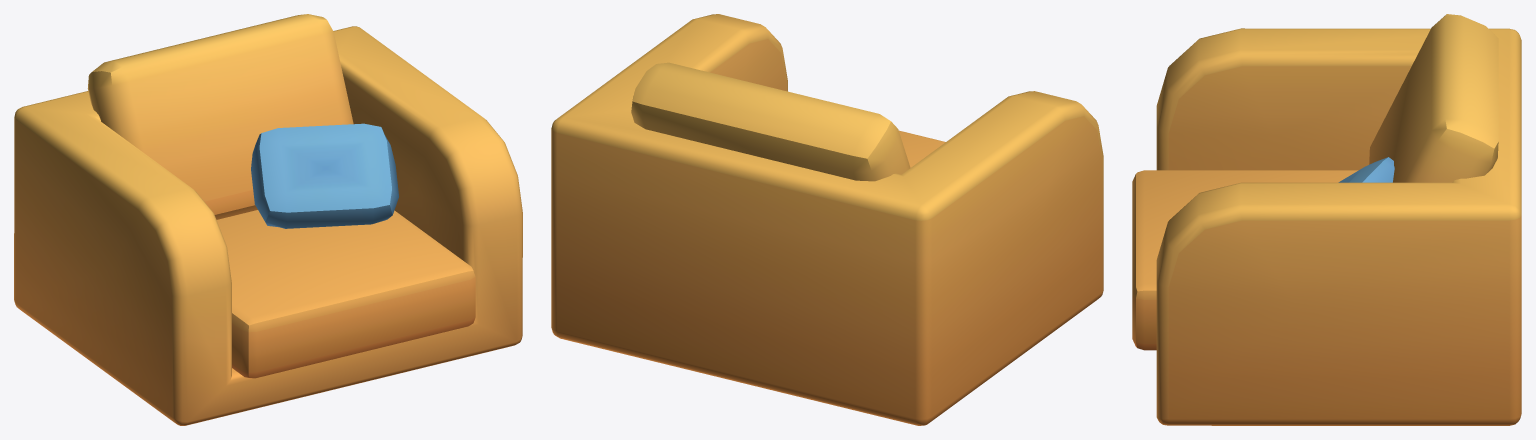
The model's file is kay-poltrona-almofadas.gltf.
3 renders of one model, left to right at view 1: azimuth 30°, elevation 25°; view 2: azimuth 150°, elevation 25°; view 3: azimuth 270°, elevation 25°, orthographic. The views are drawn at different scales.
Visible parts, largest first — view 1: armchair_pillows; view 2: armchair_pillows; view 3: armchair_pillows.
Boxes of the visible parts, x1,y1,x2,y2 form: armchair_pillows: (14,14,522,425); armchair_pillows: (551,14,1103,425); armchair_pillows: (1132,14,1521,425).
Size of the model in its own units: 1.17 by 0.7956 by 1.04.
Materials: 1 (1 with a texture image).
